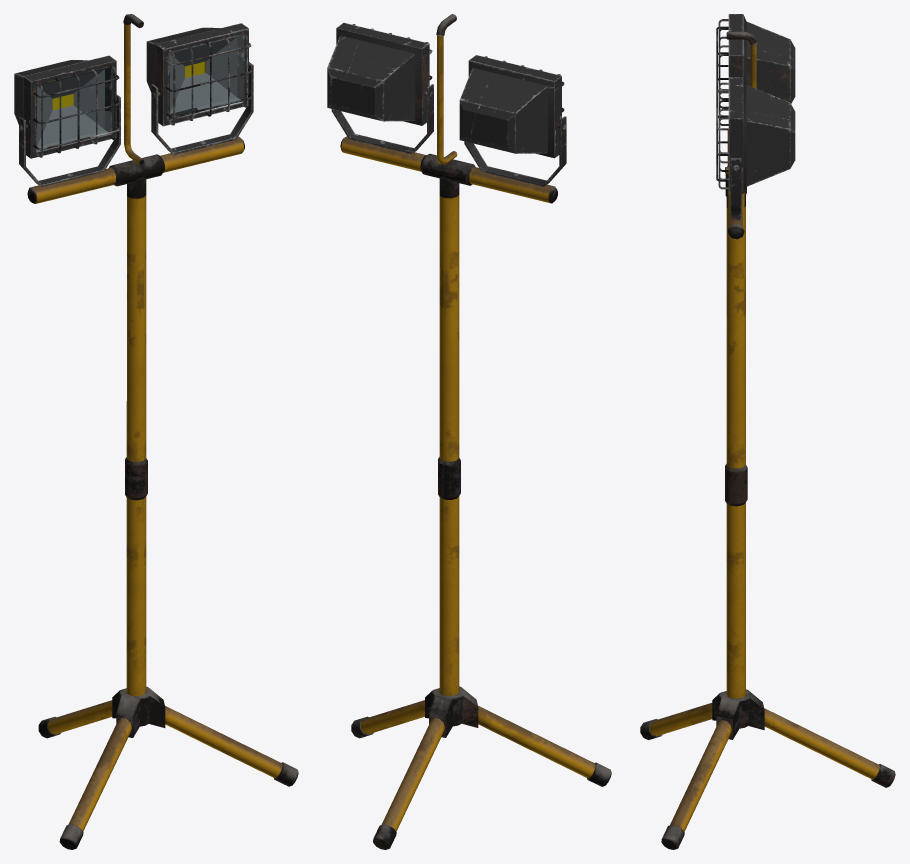
File: Flood_light.obj
3 renders of one model, left to right at view 1: azimuth 30°, elevation 25°; view 2: azimuth 150°, elevation 25°; view 3: azimuth 270°, elevation 25°, orthographic.
Parts seen in each view (by area): view 1: Cube; view 2: Cube; view 3: Cube.
Boxes of the visible parts, <box> form: Cube: <box>14,14,298,849</box>; Cube: <box>327,14,611,849</box>; Cube: <box>640,14,895,849</box>.
Size of the model in its own units: 0.4077 by 1.22 by 0.3711.
